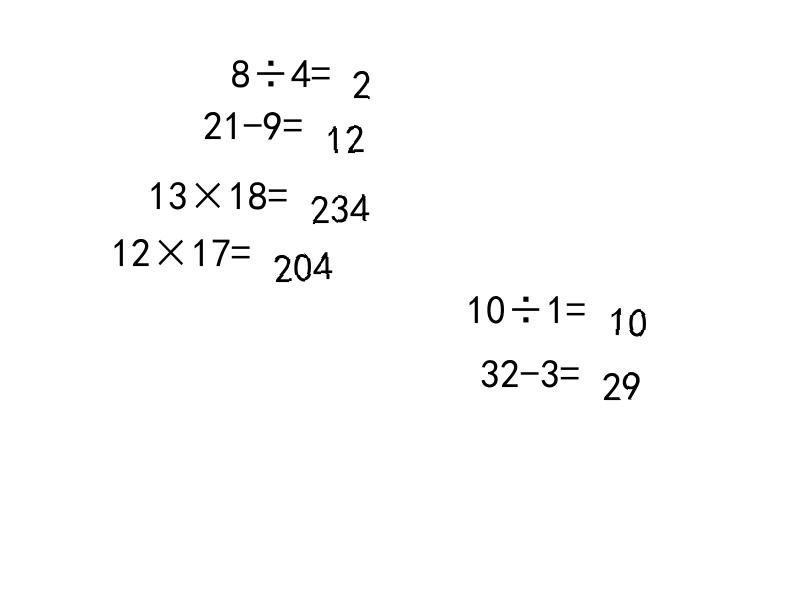-: (243, 105, 263, 134), (520, 353, 540, 382)
0: (281, 232, 301, 261), (486, 289, 506, 318), (616, 289, 636, 318)
1: (223, 105, 243, 134), (313, 105, 333, 134), (148, 175, 168, 204), (228, 175, 248, 204), (111, 232, 131, 261), (191, 232, 211, 261), (466, 289, 486, 318), (546, 289, 566, 318), (596, 289, 616, 318)
2: (203, 105, 223, 134), (333, 105, 353, 134), (298, 175, 318, 204), (131, 232, 151, 261), (261, 232, 281, 261), (500, 353, 520, 382), (590, 353, 610, 382), (341, 53, 361, 81)
3: (168, 175, 188, 204), (318, 175, 338, 204), (480, 353, 500, 382), (540, 353, 560, 382)
4: (338, 175, 358, 204), (301, 232, 321, 261), (291, 53, 311, 81)
7: (211, 232, 231, 261)
8: (248, 175, 268, 204), (231, 53, 251, 81)
9: (263, 105, 283, 134), (610, 353, 630, 382)
=: (283, 105, 303, 134), (268, 175, 288, 204), (231, 232, 251, 261), (566, 289, 586, 318), (560, 353, 580, 382), (311, 53, 331, 81)
×: (188, 175, 228, 204), (151, 232, 191, 261)
÷: (506, 289, 546, 318), (251, 53, 291, 81)
